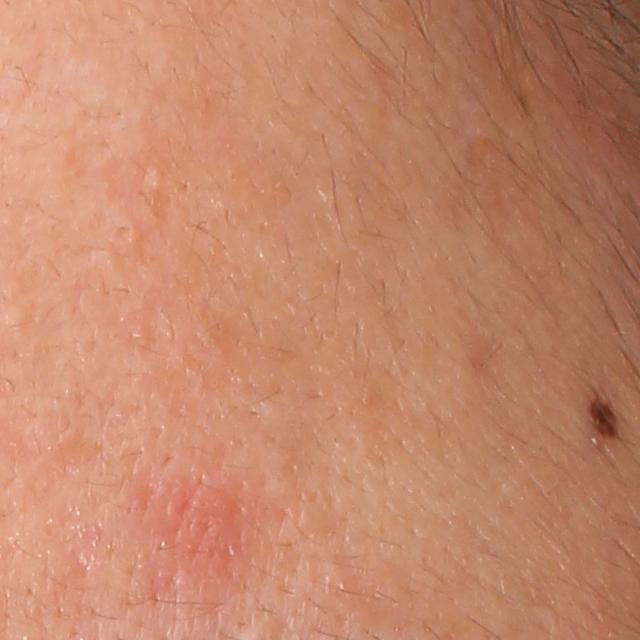nevus: (586, 390, 627, 438)
